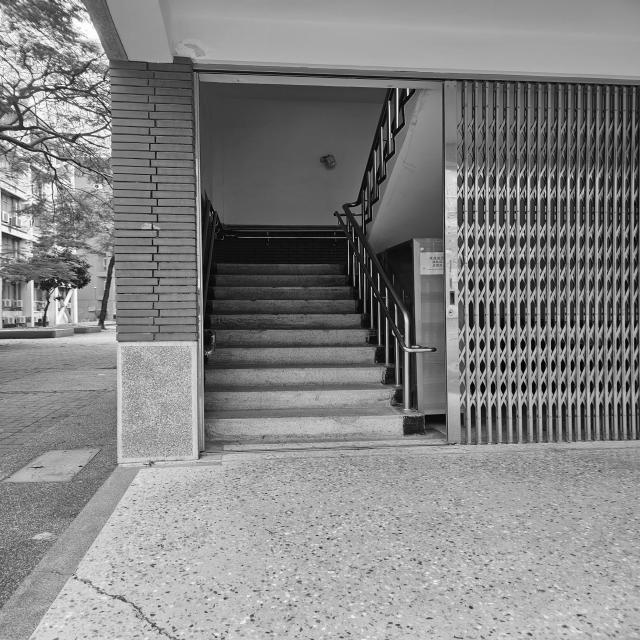Road-Object: (0, 331, 638, 640)
floor: (205, 263, 403, 452)
